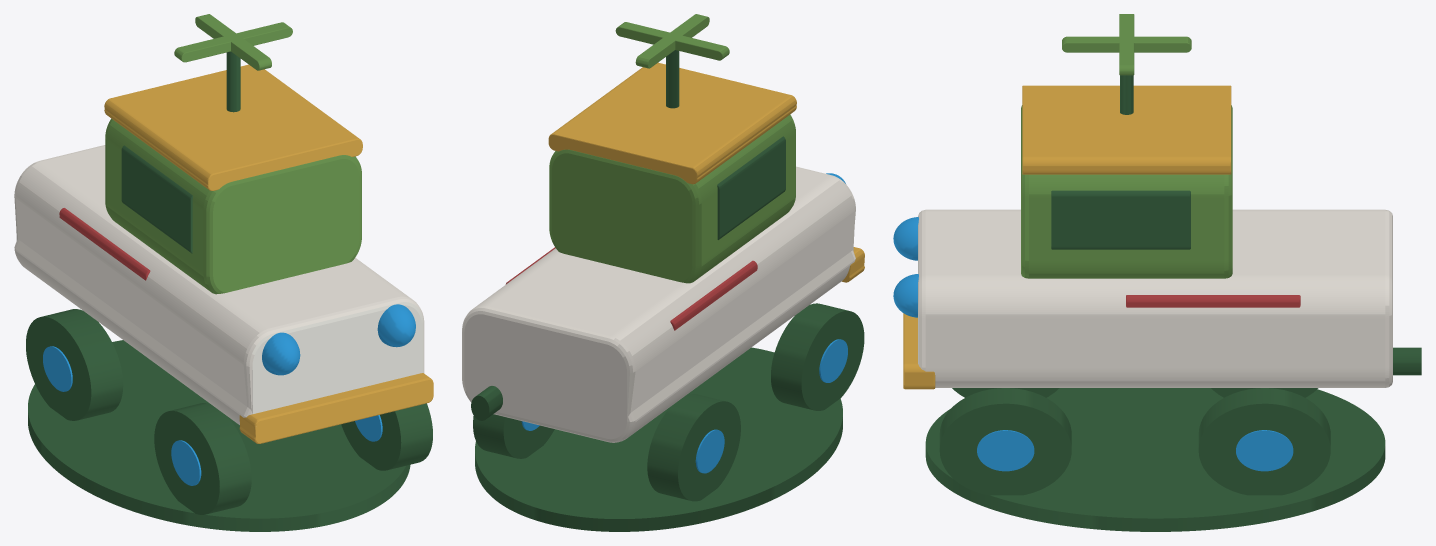
The model's file is 0371_欧洲文明图鉴_中世纪庄园.glb.
3 views of the same model, side by side, from view 1: azimuth 30°, elevation 25°; view 2: azimuth 150°, elevation 25°; view 3: azimuth 270°, elevation 25° (orthographic). The views are drawn at different scales.
Parts seen in each view (by area): view 1: card_0371; view 2: card_0371; view 3: card_0371.
Boxes of the visible parts, x1,y1,x2,y2 form: card_0371: (14, 14, 433, 531); card_0371: (462, 14, 864, 531); card_0371: (893, 14, 1421, 531).
Size of the model in its own units: 0.7785 by 1 by 1.15.
